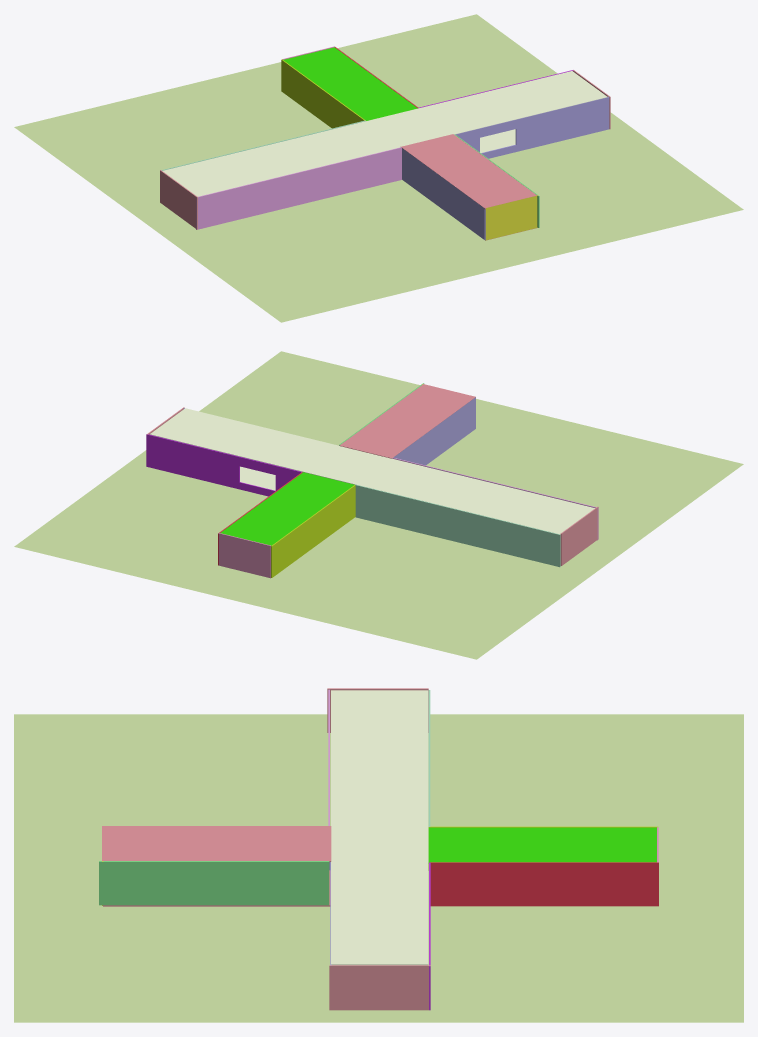
The picture shows the model from 3 angles, top to bottom: view 1: azimuth 30°, elevation 25°; view 2: azimuth 150°, elevation 25°; view 3: azimuth 270°, elevation 25°; orthographic projection. The views are drawn at different scales.
Visible parts, largest first — view 1: Plane, Cube.015, Cube.013, Cube.017, Cube.016, Cube.008, Cube.004, Cube.011, Cube.010, Cube.014, Cube; view 2: Plane, Cube.015, Cube.012, Cube.017, Cube.016, Cube.002, Cube.011, Cube.004, Cube.007, Cube.014, Cube; view 3: Plane, Cube.015, Cube.009, Cube.006, Cube.016, Cube.017, Cube.003.
Part boxes in pixels (x1,y1,x2,y2): Plane: (14, 14, 743, 322); Cube.015: (163, 71, 607, 196); Cube.013: (196, 147, 401, 229); Cube.017: (401, 134, 536, 209); Cube.016: (283, 47, 417, 120); Cube.008: (455, 96, 609, 158); Cube.004: (402, 148, 485, 239); Cube.011: (281, 59, 365, 128); Cube.010: (485, 195, 537, 240); Cube.014: (160, 170, 197, 229); Cube: (480, 129, 515, 152); Plane: (14, 351, 743, 659); Cube.015: (150, 408, 594, 534); Cube.012: (355, 484, 560, 567); Cube.017: (339, 384, 475, 458); Cube.016: (220, 472, 354, 545); Cube.002: (146, 434, 301, 496); Cube.011: (271, 485, 355, 577); Cube.004: (392, 397, 475, 465); Cube.007: (218, 533, 270, 578); Cube.014: (560, 506, 598, 565); Cube: (240, 466, 561, 566); Plane: (14, 714, 743, 1022); Cube.015: (331, 690, 428, 965); Cube.009: (99, 861, 329, 905); Cube.006: (430, 862, 658, 906); Cube.016: (428, 827, 656, 863); Cube.017: (102, 826, 331, 862); Cube.003: (329, 965, 430, 1010).
Size of the model in its own units: 90 by 6.3 by 90.
